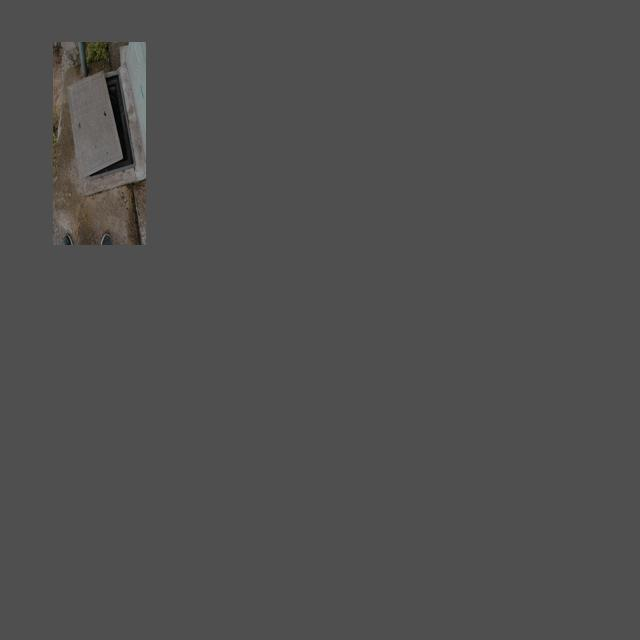uncovered: (66, 69, 135, 182)
